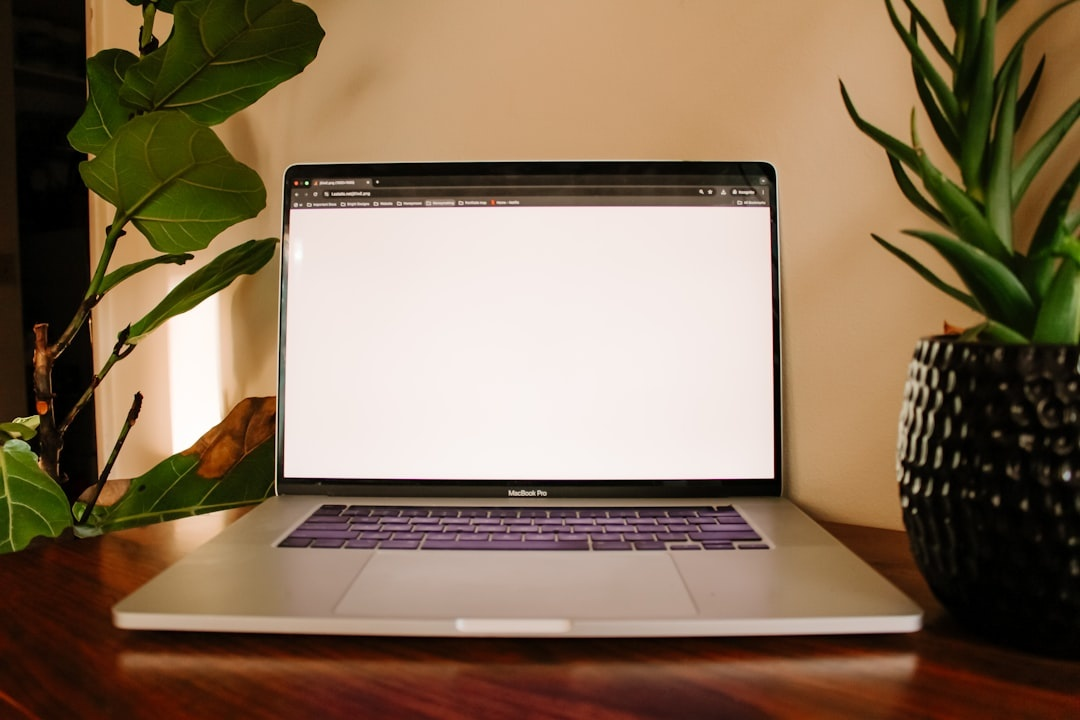laptop: (93, 120, 992, 672)
